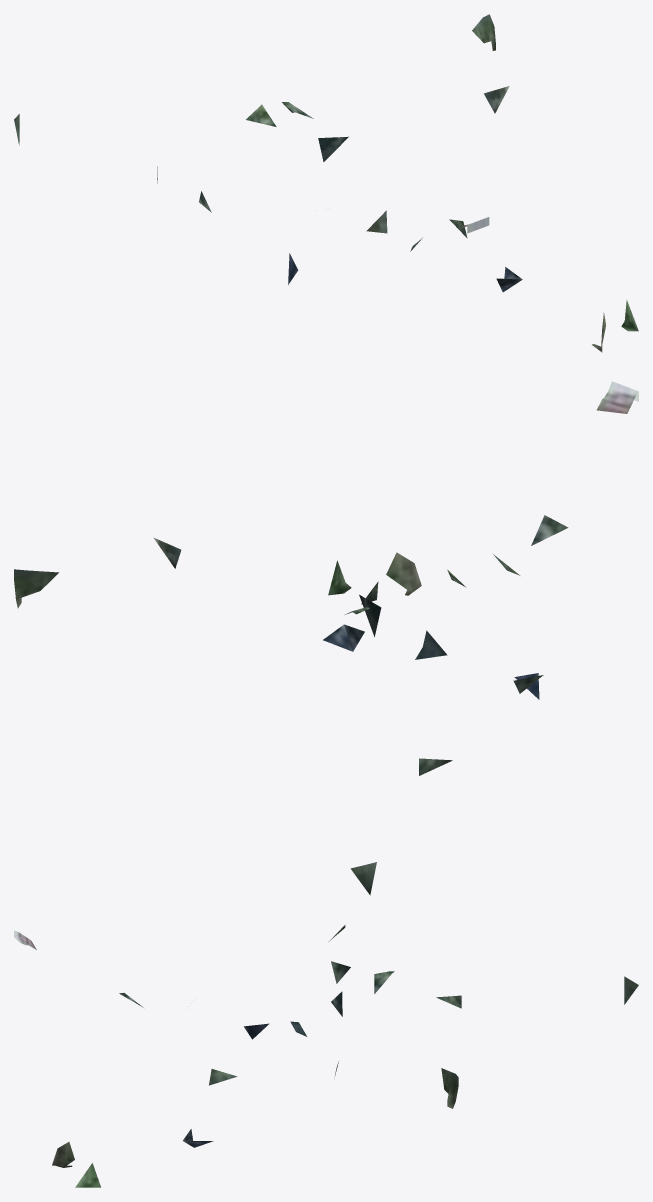
The picture shows the model from 3 angles, top to bottom: view 1: azimuth 30°, elevation 25°; view 2: azimuth 150°, elevation 25°; view 3: azimuth 270°, elevation 25°; orthographic projection. The views are drawn at different scales.
Parts seen in each view (by area): view 1: 30436272704361527507_1; view 2: 30436272704361527507_1; view 3: 30436272704361527507_1.
Boxes of the visible parts, bbox=[...] form: 30436272704361527507_1: bbox=[14, 14, 638, 352]; 30436272704361527507_1: bbox=[14, 381, 638, 895]; 30436272704361527507_1: bbox=[14, 925, 638, 1187].
Size of the model in its own units: 21.63 by 9.86 by 33.16.
1 material, 1 textured.
